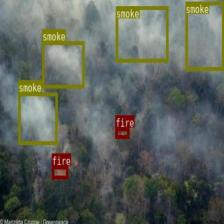fire: (51, 165, 68, 178), (115, 127, 129, 138)
smoke: (115, 5, 168, 61), (185, 1, 223, 69), (18, 92, 57, 144), (42, 41, 84, 87)
